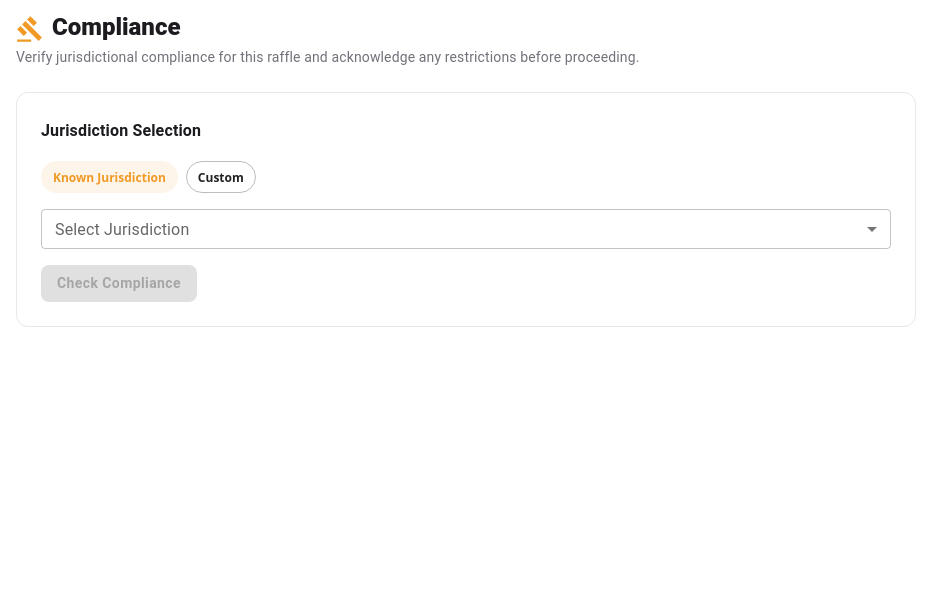
Test: CompliancePanel › shows compliant status with green indicator
Switch to custom jurisdiction and type one in
Click the button "Custom" at {"x": 221, "y": 177}, box [186, 161, 256, 193]
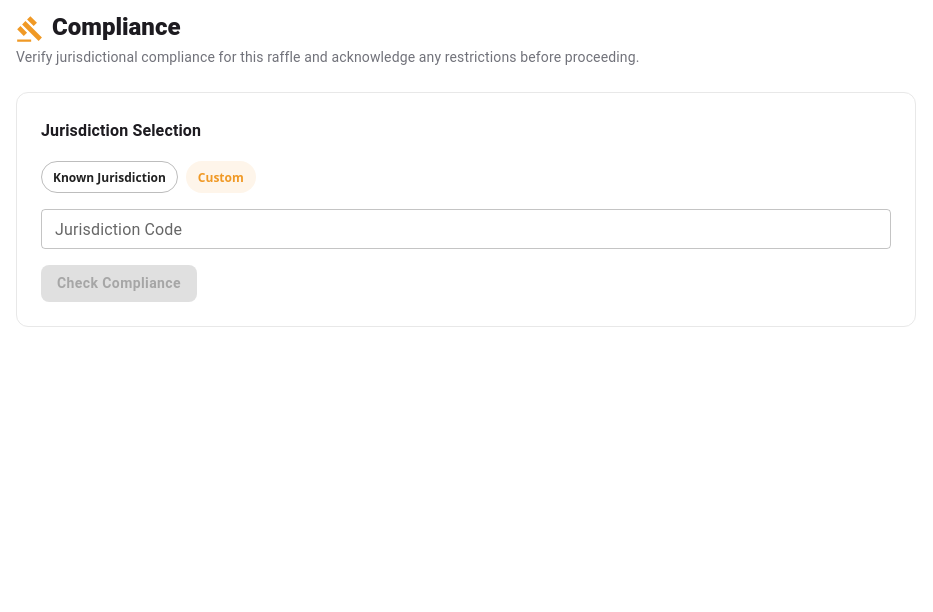
Type "US-TX" into the field labelled "Jurisdiction Code" at {"x": 466, "y": 229}, box [41, 209, 891, 249]
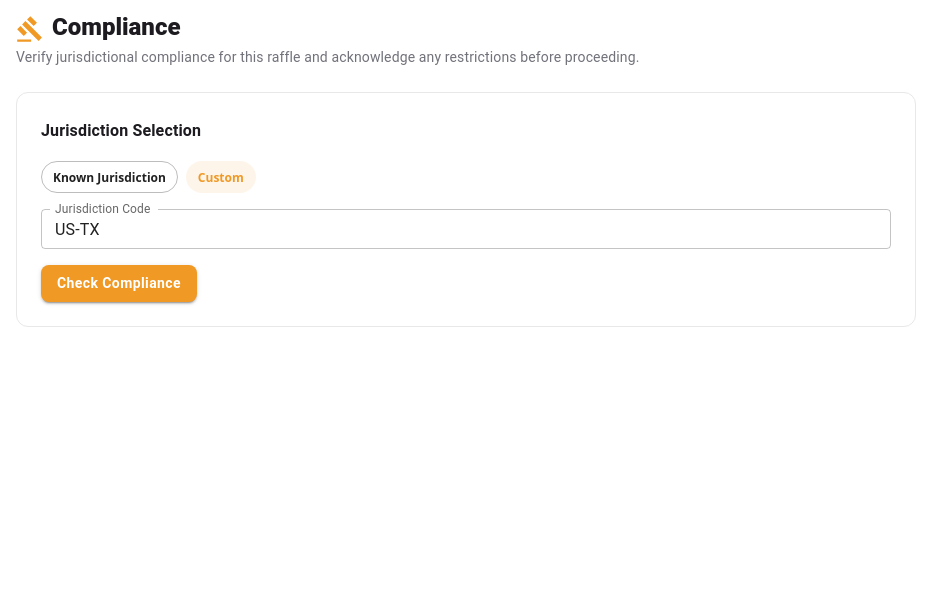
Click the button "Check Compliance" at {"x": 119, "y": 283}, box [41, 265, 197, 302]
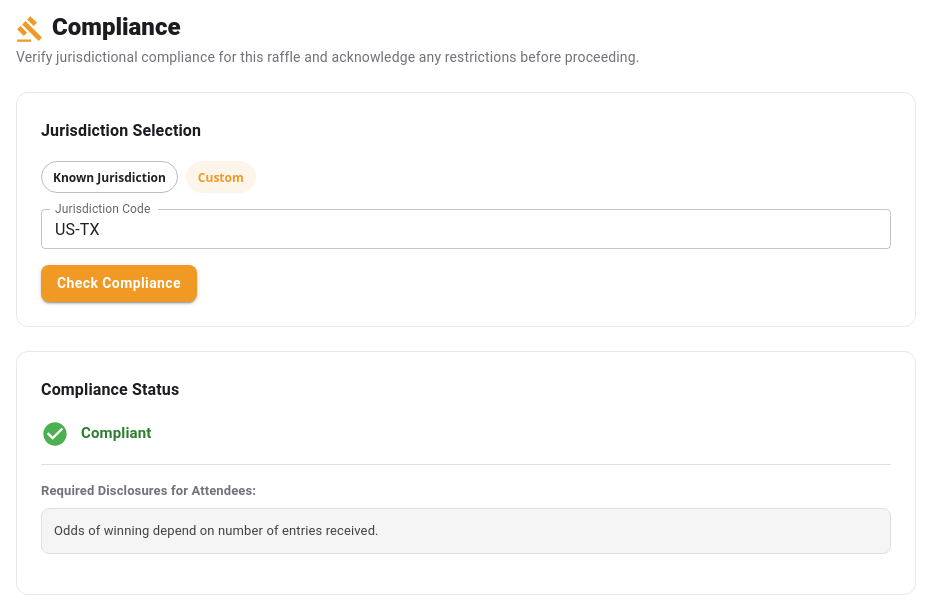
Result: the text "Compliant" is shown at [81, 422, 152, 445]
Result: the text "Odds of winning depend on number of entries received." is shown at [54, 523, 379, 538]
